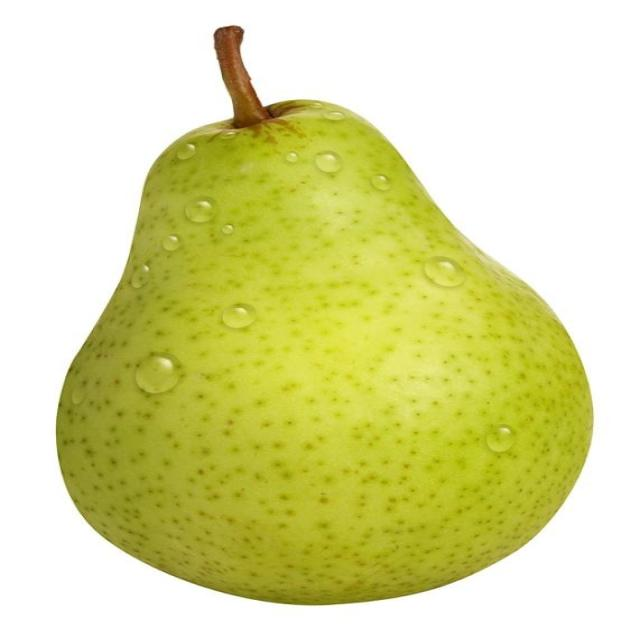paer: (67, 107, 609, 616)
